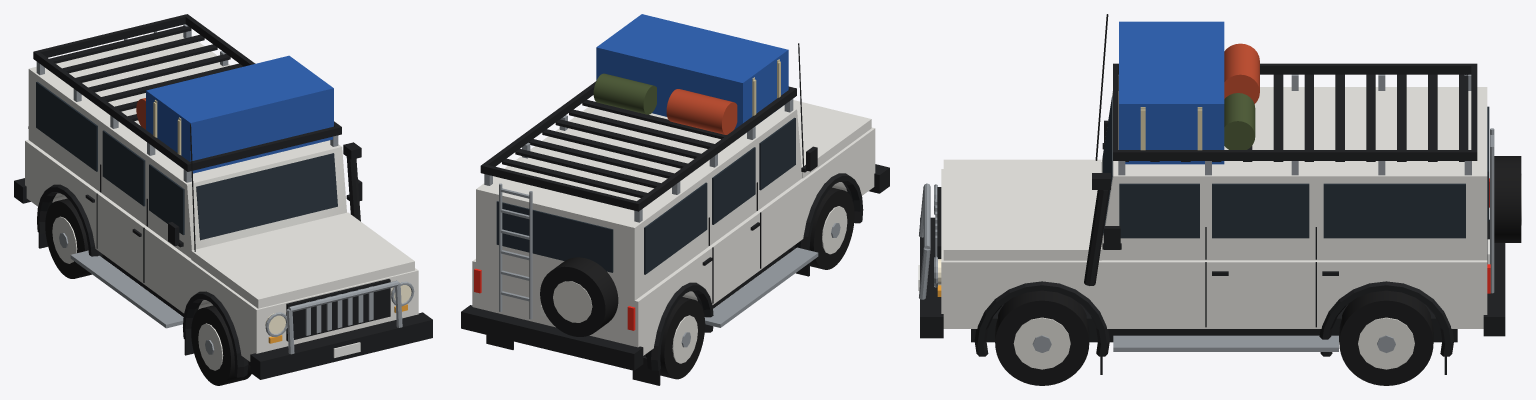
The model's file is jeep.glb.
3 views of the same model, side by side, from view 1: azimuth 30°, elevation 25°; view 2: azimuth 150°, elevation 25°; view 3: azimuth 270°, elevation 25° (orthographic). The views are drawn at different scales.
Parts seen in each view (by area): view 1: paint6, tarp65, paint0, paint1, glass7, trim29, glass10_mx, trim18, steel5_mx, glass9_mx, tyre49, trim61_mx (+17 smaller); view 2: paint6, paint0, tarp65, glass11, trim39, tyre41, glass10_mx, paint1, steel5_mx, bag_a70, glass9_mx, tyre46 (+23 smaller); view 3: paint6, paint0, paint1, tarp65, glass10, glass9, tyre52, tyre55, glass8, trim61, steel5, trim61_mx (+23 smaller).
Boxes of the visible parts, bbox=[...] form: paint6: bbox=[28, 33, 346, 258]; tarp65: bbox=[146, 55, 333, 173]; paint0: bbox=[25, 140, 418, 361]; paint1: bbox=[191, 212, 414, 308]; glass7: bbox=[196, 153, 337, 240]; trim29: bbox=[250, 312, 432, 379]; glass10_mx: bbox=[36, 81, 97, 171]; trim18: bbox=[286, 279, 390, 341]; steel5_mx: bbox=[70, 250, 183, 328]; glass9_mx: bbox=[102, 130, 145, 206]; tyre49: bbox=[191, 305, 251, 385]; trim61_mx: bbox=[33, 51, 190, 171]; paint6: bbox=[476, 106, 802, 300]; paint0: bbox=[472, 127, 875, 355]; tarp65: bbox=[596, 14, 788, 129]; glass11: bbox=[496, 201, 613, 272]; trim39: bbox=[461, 305, 643, 370]; tyre41: bbox=[540, 257, 618, 336]; glass10_mx: bbox=[644, 182, 707, 274]; paint1: bbox=[783, 100, 871, 178]; steel5_mx: bbox=[704, 247, 818, 327]; bag_a70: bbox=[666, 89, 737, 134]; glass9_mx: bbox=[712, 147, 755, 224]; tyre46: bbox=[645, 297, 705, 379]; paint6: bbox=[1101, 87, 1487, 260]; paint0: bbox=[941, 169, 1487, 328]; paint1: bbox=[943, 159, 1101, 260]; tarp65: bbox=[1119, 21, 1224, 164]; glass10: bbox=[1323, 183, 1465, 238]; glass9: bbox=[1212, 183, 1309, 238]; tyre52: bbox=[1339, 290, 1433, 385]; tyre55: bbox=[995, 290, 1089, 385]; glass8: bbox=[1119, 183, 1199, 238]; trim61: bbox=[1114, 150, 1475, 160]; steel5: bbox=[1113, 335, 1338, 351]; trim61_mx: bbox=[1114, 63, 1475, 74].
Bounding box in the file's own units: 2.26 × 2.6 × 5.08.
